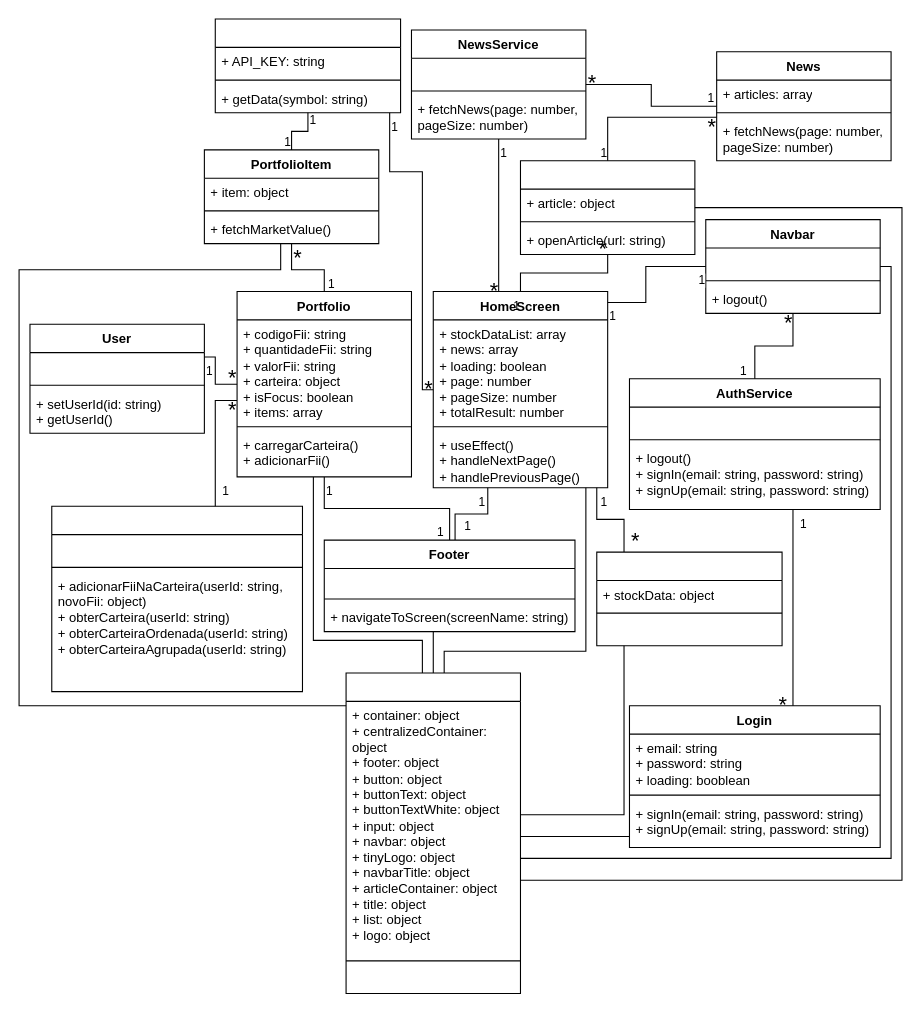
Some shapes in this 922 by 1016 pixel diagram are drawn without their labels. The box of each missing label's shape, as (x1, y1, x2, y2) in pixels:
AlphaVantageGlobalQuote: (214, 18, 401, 113)
Firebase: (51, 505, 302, 692)
Idv: (345, 672, 520, 994)
NewsItem: (519, 160, 695, 255)
StockItem: (596, 551, 782, 646)
